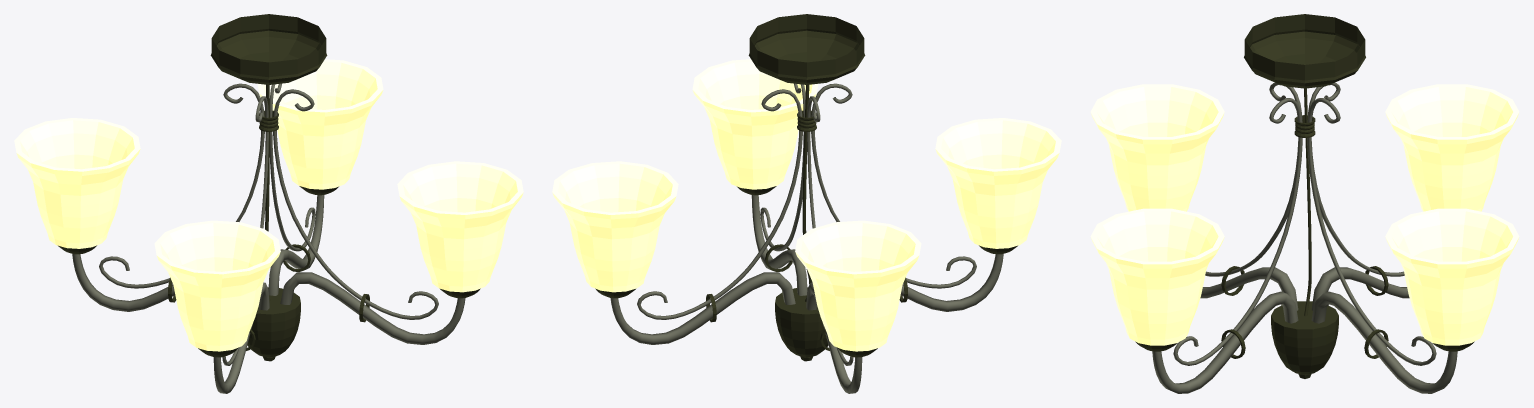
The model's file is overhead lamp.fbx.
3 renders of one model, left to right at view 1: azimuth 30°, elevation 25°; view 2: azimuth 150°, elevation 25°; view 3: azimuth 270°, elevation 25°, orthographic. The views are drawn at different scales.
Parts seen in each view (by area): view 1: Cylinder.004, BezierCurve.003, Cylinder.003; view 2: Cylinder.004, BezierCurve.003, Cylinder.003; view 3: Cylinder.004, BezierCurve.003, Cylinder.003, Cylinder.007.
Boxes of the visible parts, x1,y1,x2,y2 form: Cylinder.004: (14,59,523,357); BezierCurve.003: (72,83,465,393); Cylinder.003: (210,14,327,361); Cylinder.004: (552,59,1061,357); BezierCurve.003: (610,83,1003,393); Cylinder.003: (748,14,865,361); Cylinder.004: (1090,84,1519,358); BezierCurve.003: (1152,82,1457,393); Cylinder.003: (1244,14,1365,378); Cylinder.007: (1294,115,1315,137).
Bounding box in the file's own units: 91 × 91.72 × 80.05.
